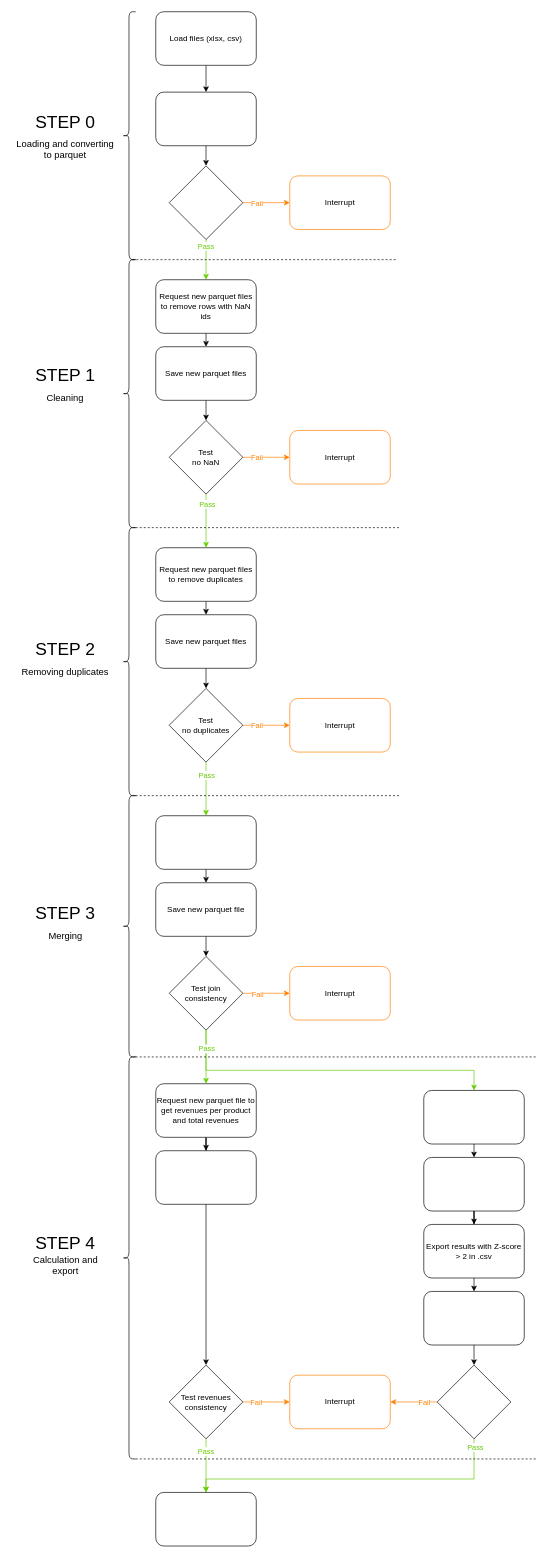
The diagram is 550 pixels wide and 1558 high, and some of its shapes have lost their labels. The shapes that lost their labels are listed below. From the top down, each one's centre as x and y in pixels, then its label:
[205,118]: Convert files to parquet
[206,202]: Test Row/Column Integrity
[205,842]: Request to merge new parquet files
[473,1117]: Load new parquet file
[205,1177]: Export results in .xlsx
[473,1184]: Calculate Z-score for each product
[473,1318]: Export results with Z-score <= 2 in .csv
[474,1401]: Test Z-score separation consistency
[205,1519]: End
